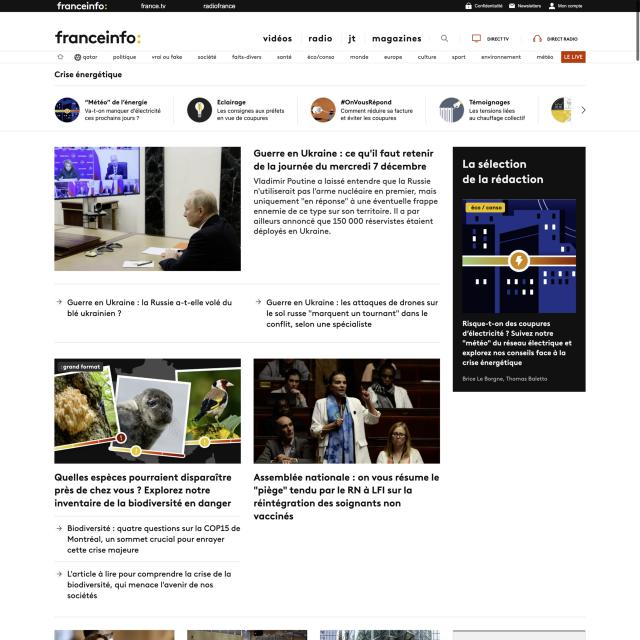CheckBox: (532, 33, 580, 45), (470, 33, 511, 44), (560, 51, 587, 63)
ImageView: (454, 146, 586, 392)
Input field: (252, 175, 440, 237)
Switch: (54, 94, 586, 125)
bag: (0, 1, 640, 63), (252, 468, 444, 522)
breadcrumbs: (51, 471, 234, 510), (253, 146, 436, 174), (53, 68, 123, 80)
carousel: (440, 34, 450, 44)
copy: (55, 146, 242, 271), (54, 358, 241, 464), (253, 359, 440, 464)
date picker: (53, 26, 148, 46)
decoration: (57, 53, 555, 61), (261, 32, 425, 46), (457, 1, 586, 10), (140, 2, 237, 11)
